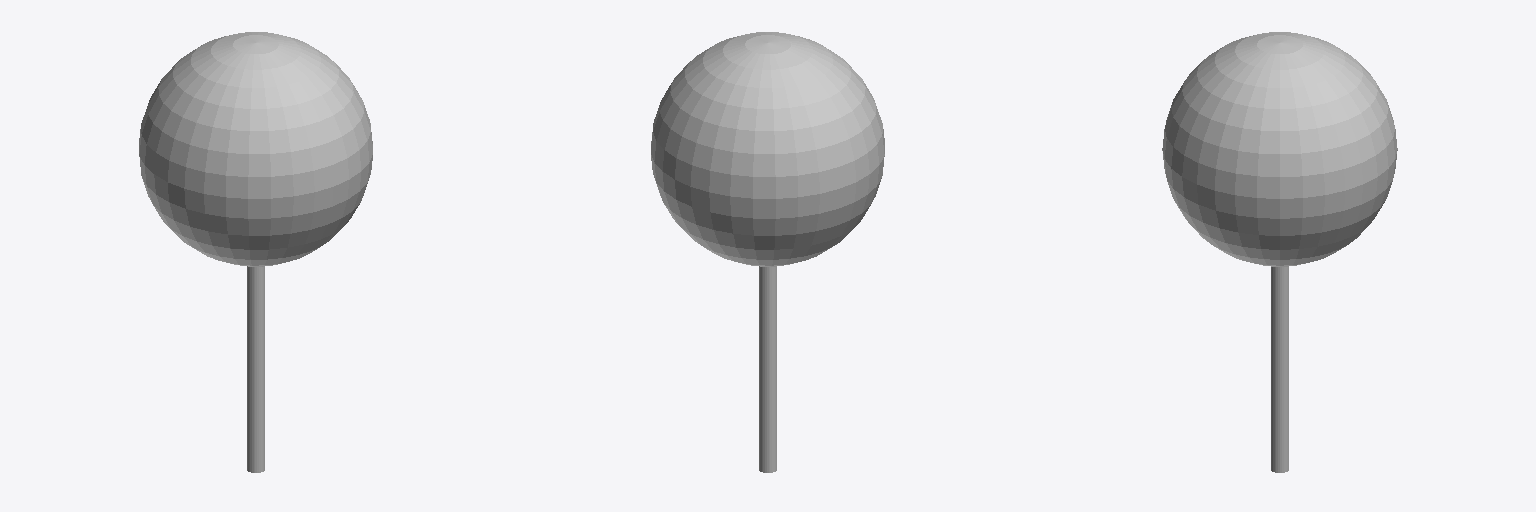
The model's file is lollipop1.obj.
3 views of the same model, side by side, from view 1: azimuth 30°, elevation 25°; view 2: azimuth 150°, elevation 25°; view 3: azimuth 270°, elevation 25° (orthographic).
Visible parts, largest first — view 1: Sphere, Cylinder; view 2: Sphere, Cylinder; view 3: Sphere, Cylinder.
Part boxes in pixels (x1,y1,x2,y2): Sphere: (139, 32, 372, 266); Cylinder: (247, 266, 264, 472); Sphere: (651, 32, 884, 266); Cylinder: (759, 266, 776, 472); Sphere: (1162, 32, 1397, 266); Cylinder: (1271, 267, 1288, 472).
Bounding box in the file's own units: 2 × 4 × 2.